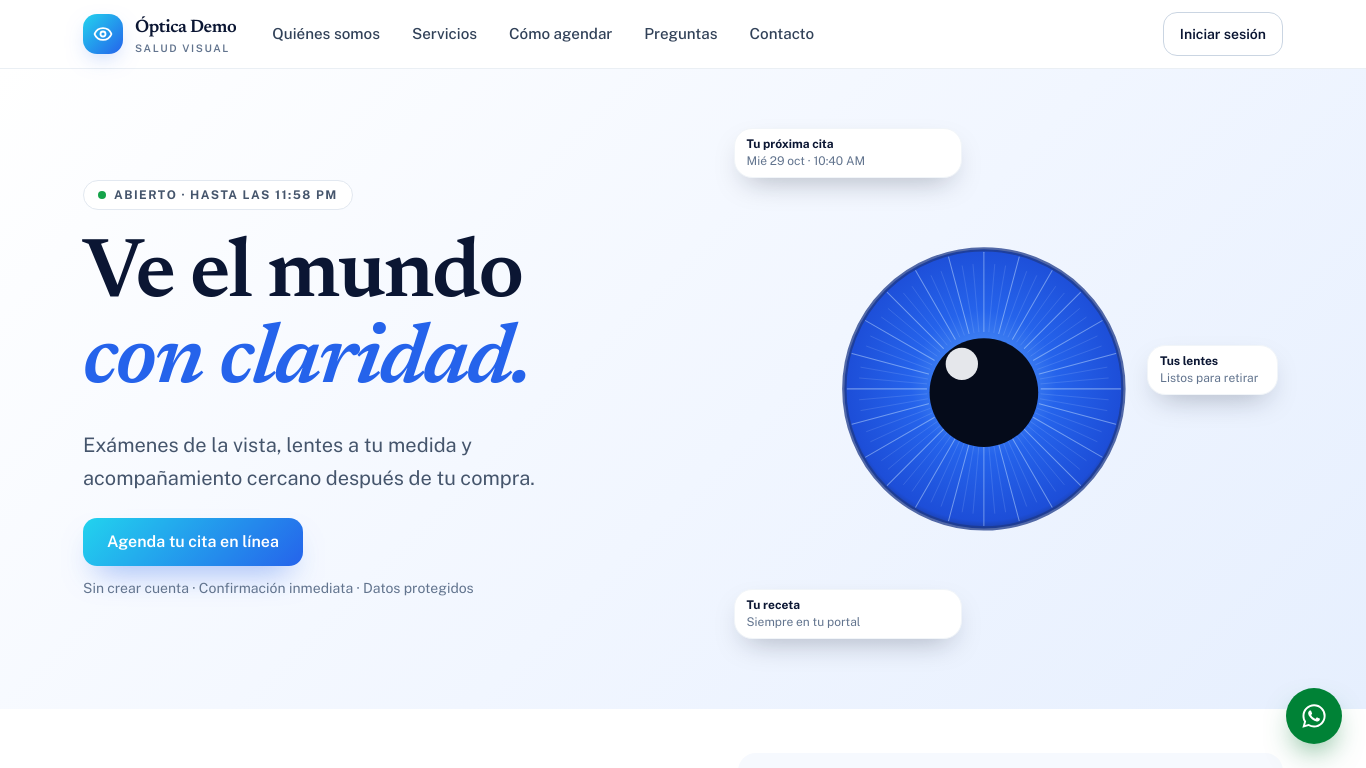
Test: Ventana de ingreso › Escape y la X cierran la ventana
Click the button "Iniciar sesión" at x=1223, y=34, box [1163,12,1283,56]
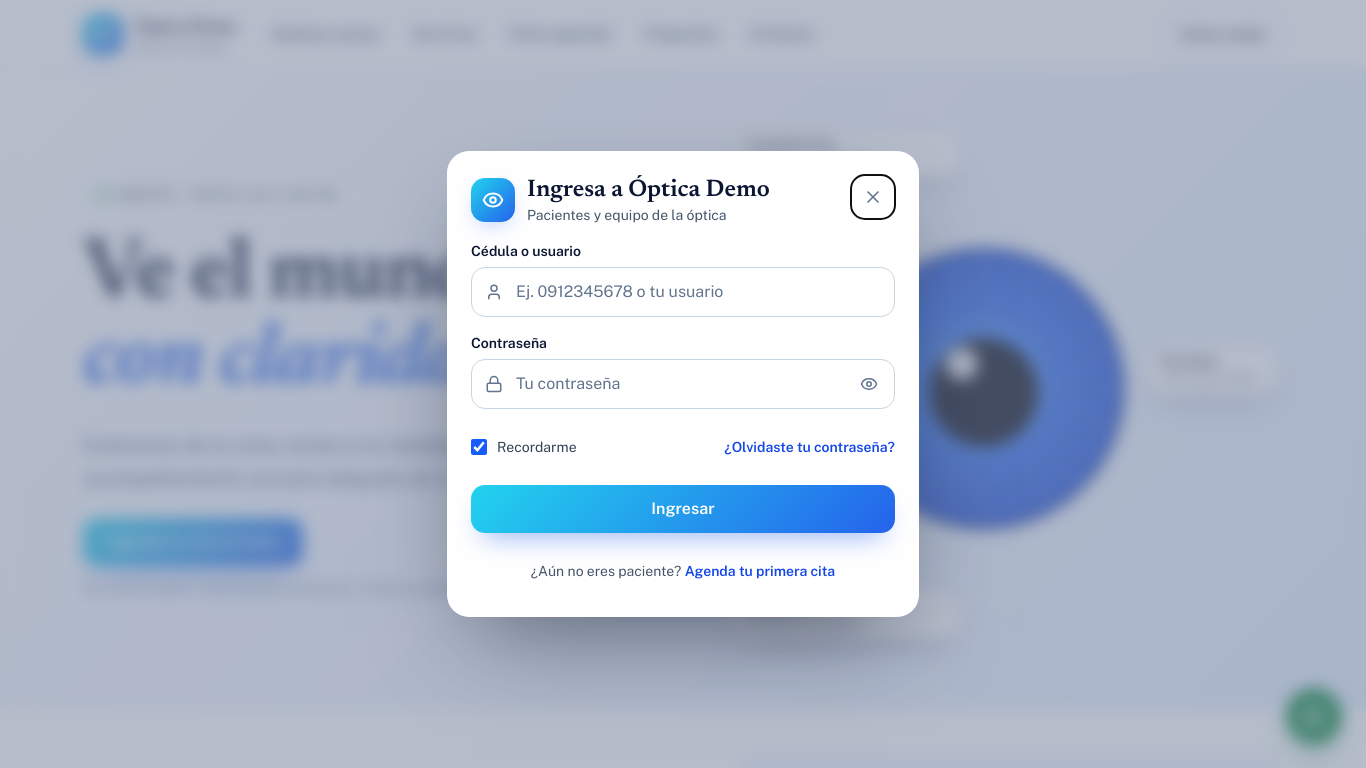
Press Escape
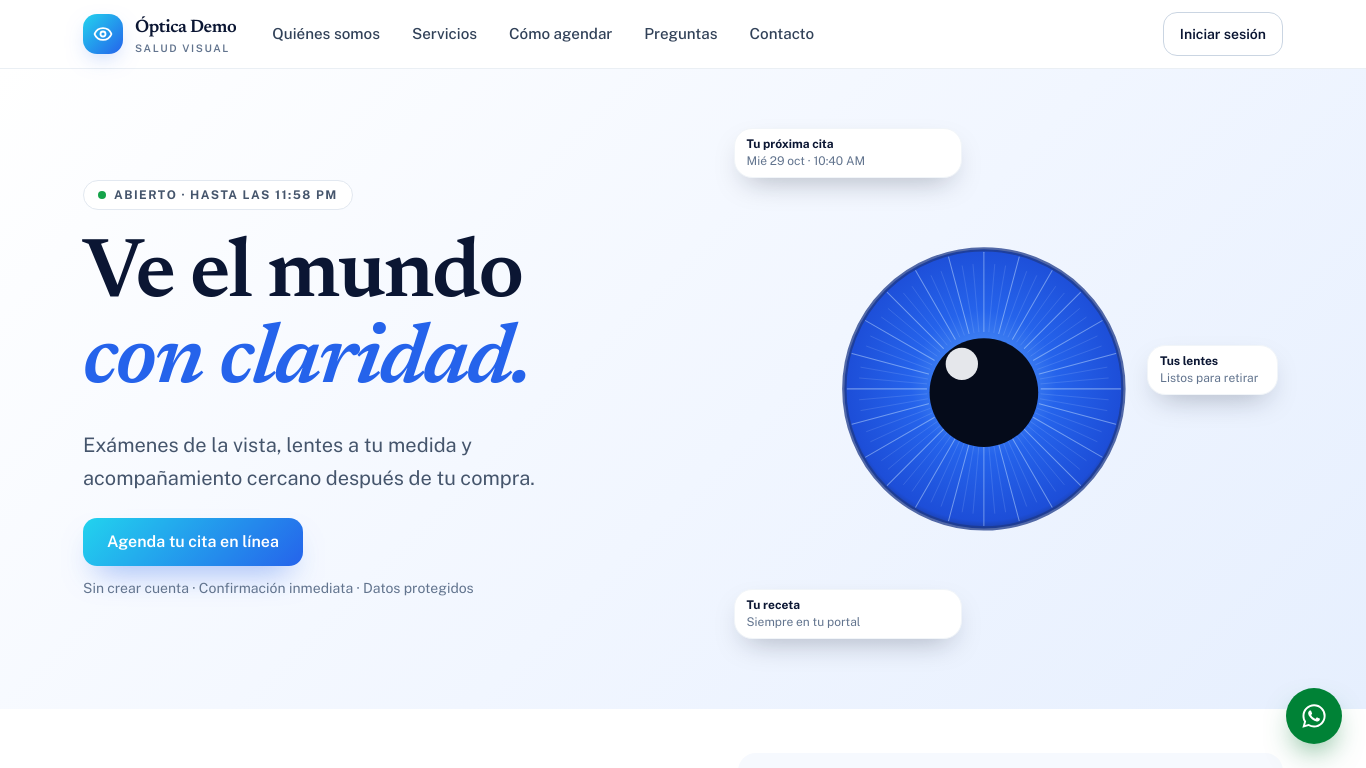
Result: the dialog is gone
Click the button "Iniciar sesión" at x=1223, y=34, box [1163,12,1283,56]
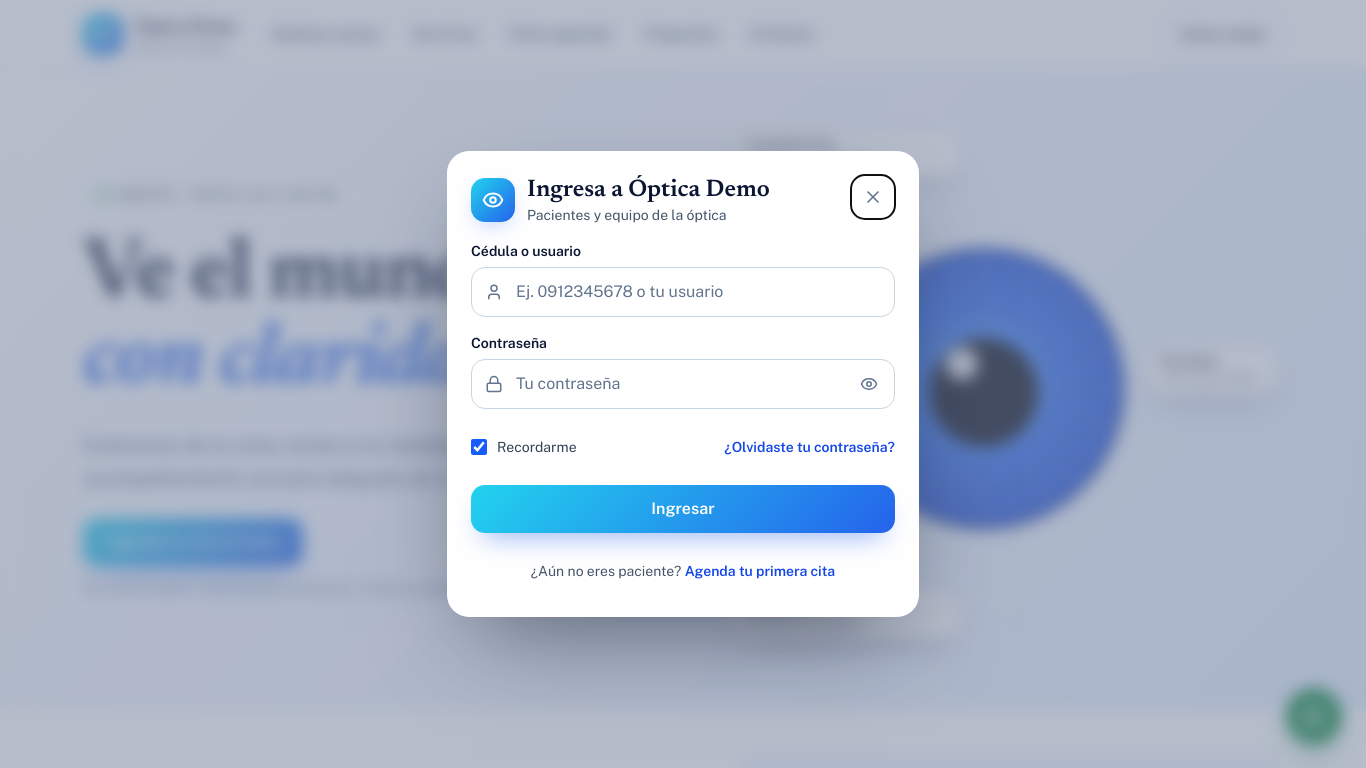
Click the button named "Cerrar" at x=873, y=197, box [851,175,895,219]
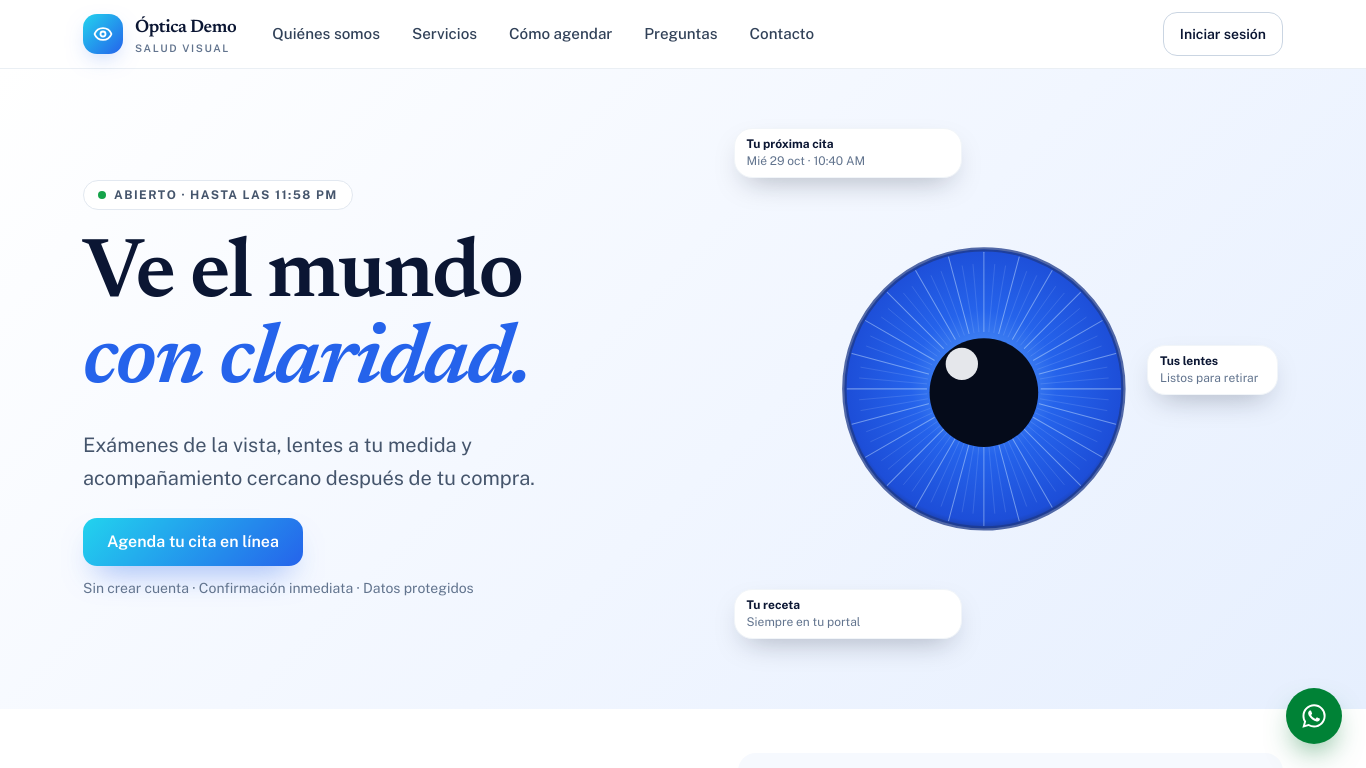
Result: the dialog is gone
